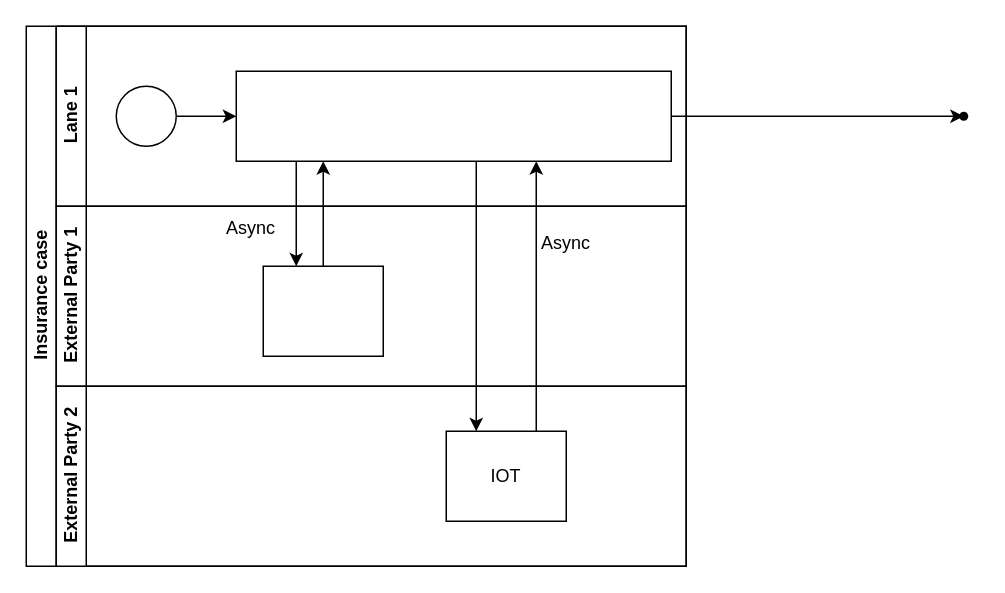
Image size: 1005x593. Some labels were removed from this diagram. The centre of each missing label's shape, as x and y in pixels:
"CLAP - Enrichment" belongs at point (453, 115).
"RDW" belongs at point (322, 310).
